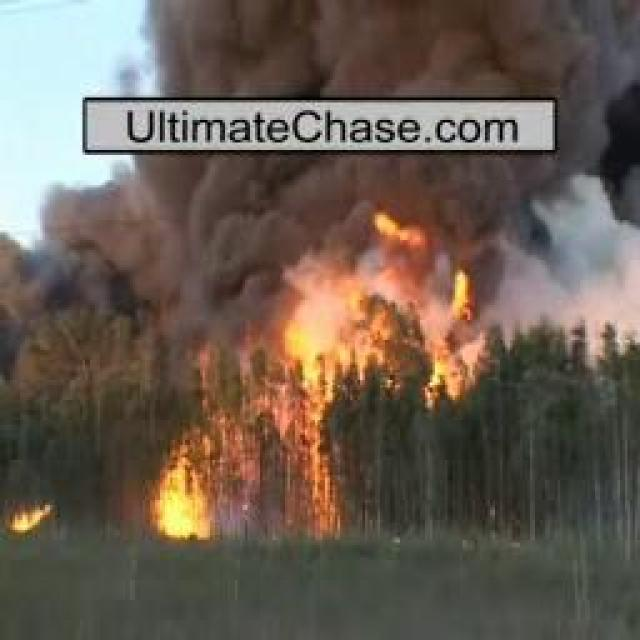Fire: (287, 338, 348, 534), (399, 275, 476, 397), (150, 433, 225, 518), (10, 501, 64, 535)
